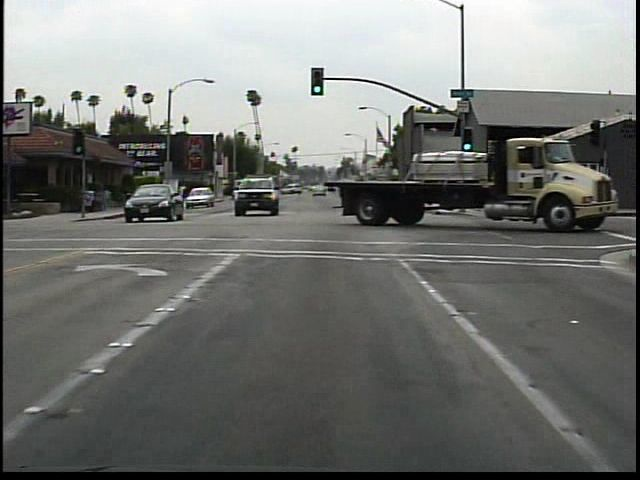person: (176, 182, 192, 206)
